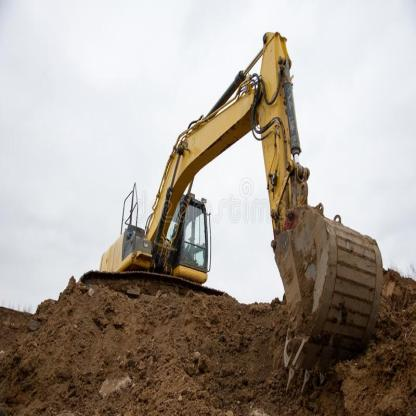excavator: (70, 24, 383, 392)
